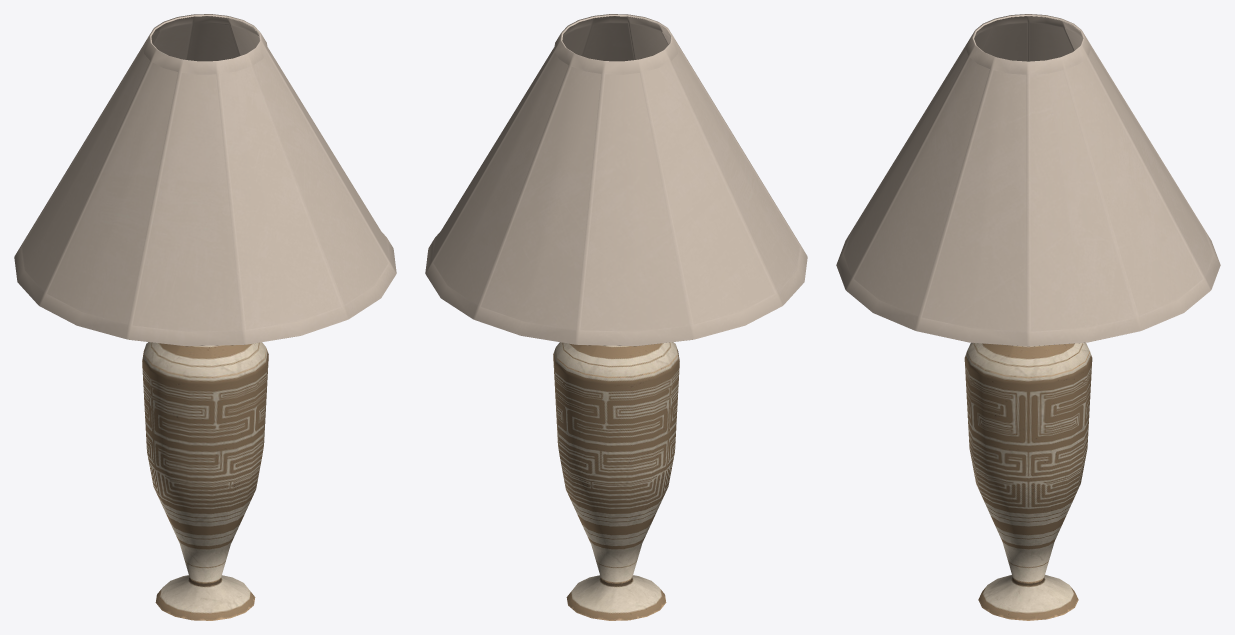
3 renders of one model, left to right at view 1: azimuth 30°, elevation 25°; view 2: azimuth 150°, elevation 25°; view 3: azimuth 270°, elevation 25°, orthographic.
Visible parts, largest first — view 1: lampshade_low; view 2: lampshade_low; view 3: lampshade_low.
Boxes of the visible parts, x1,y1,x2,y2 form: lampshade_low: (14, 14, 396, 620); lampshade_low: (425, 14, 807, 620); lampshade_low: (836, 14, 1220, 620).
Size of the model in its own units: 0.7672 by 1.24 by 0.7681.
1 material, 1 textured.
